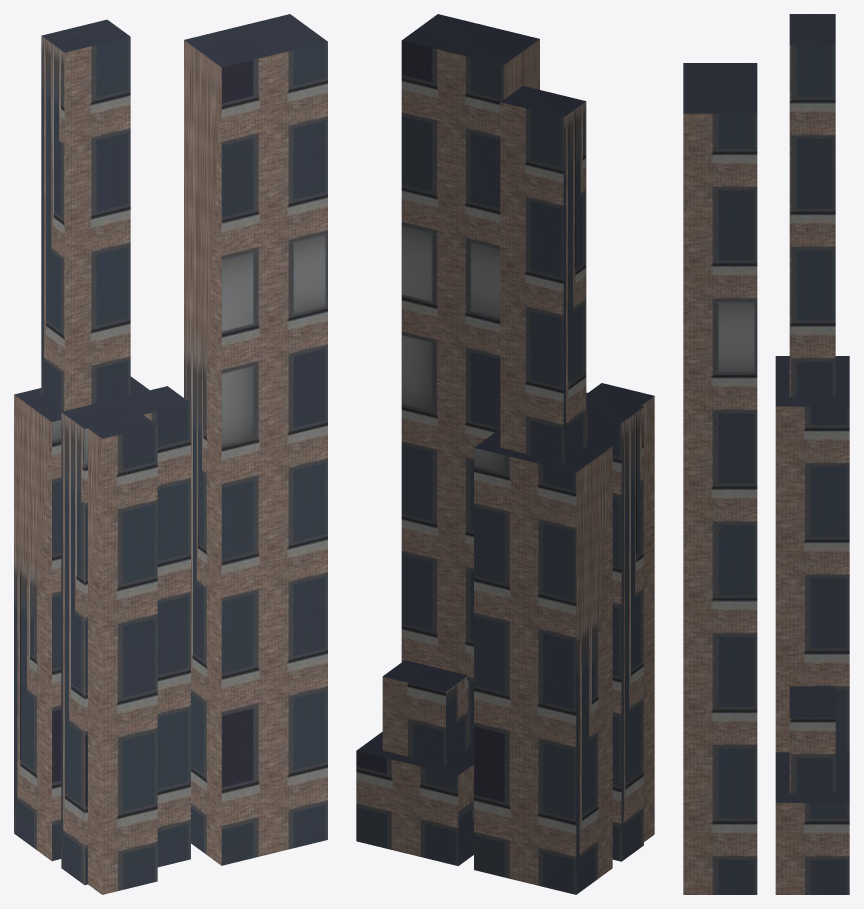
The model's file is city_block_12345_6_22.glb.
3 renders of one model, left to right at view 1: azimuth 30°, elevation 25°; view 2: azimuth 150°, elevation 25°; view 3: azimuth 270°, elevation 25°, orthographic. The views are drawn at different scales.
Visible parts, largest first — view 1: block_22; view 2: block_22; view 3: block_22.
Boxes of the visible parts, x1,y1,x2,y2 form: block_22: [14, 14, 327, 894]; block_22: [356, 14, 654, 894]; block_22: [683, 14, 849, 894].
Bounding box in the file's own units: 4.2 × 14 × 2.7.
4 materials, 4 textured.
